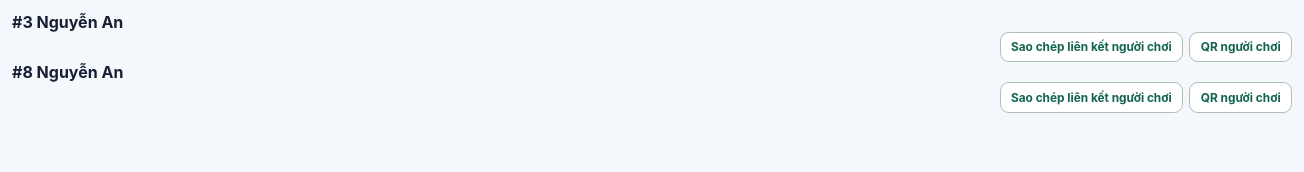
Test: ParticipantPersonalLinkAction › shows a safe reusable failure state when clipboard writing fails
Click the button with aria-label "Sao chép liên kết người chơi cho #3 Nguyễn An" at [1091, 47], box [1000, 32, 1183, 62]
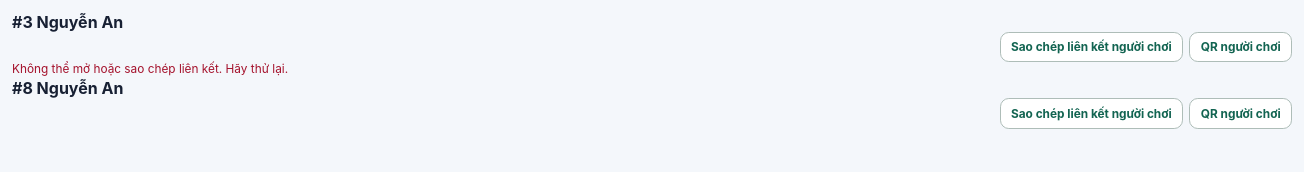
expect the message reads "Không thể mở hoặc sao chép liên kết. Hãy thử lại.": met, box [12, 62, 288, 76]
